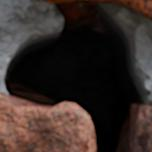brick: (85, 0, 151, 19), (44, 0, 71, 2)
broken_brick: (0, 91, 92, 151), (134, 103, 151, 151)
crack: (2, 0, 149, 151)
